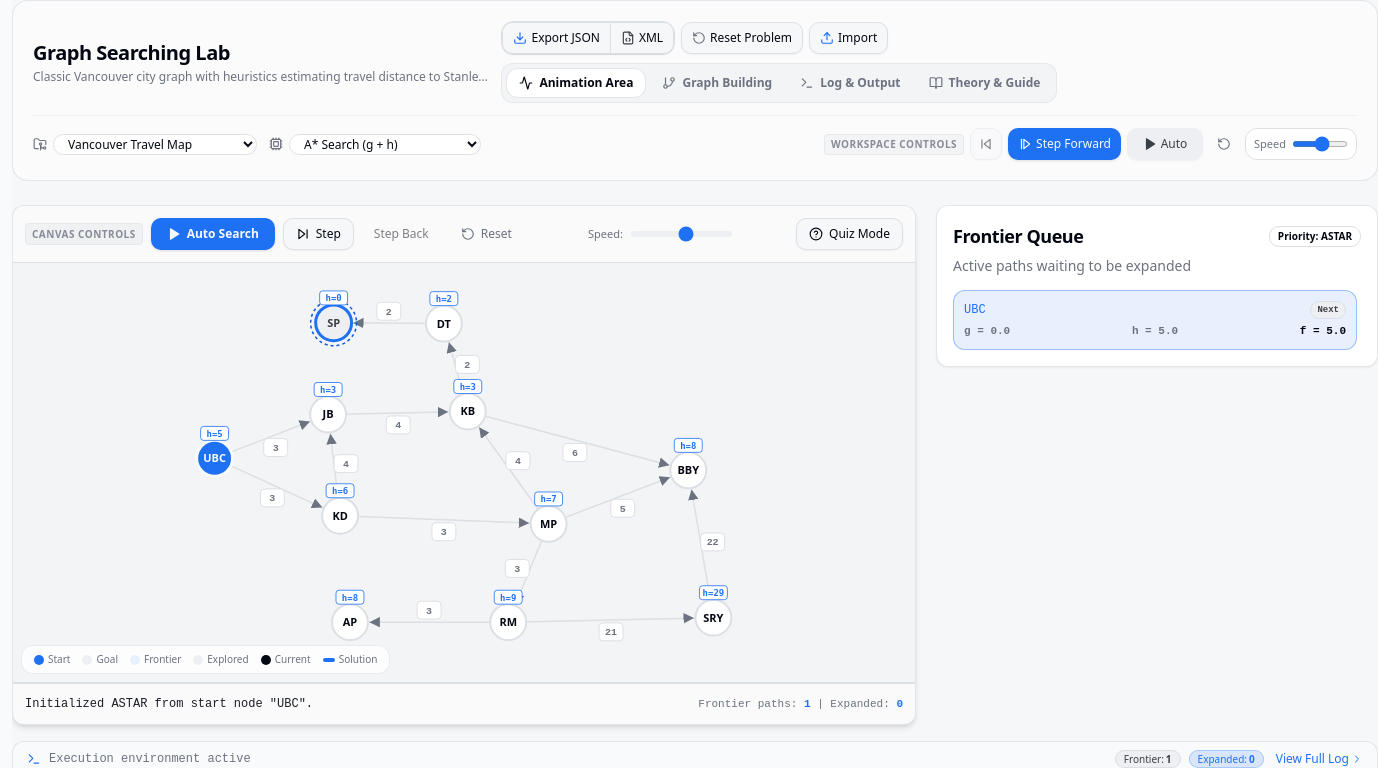
Scenario: AI Playground Comprehensive Verification Suite › 2. SearchTool mounts, displays nodes, and steps search algorithm
The width and height of the screenshot is (1378, 768).
Expected: the heading "Graph Searching Lab" is shown, [33,39,230,66]
Expected: the heading "Frontier Queue" is shown, [953,222,1083,250]
Click the button "Step". click: point(318, 234)
box: [283,218,354,250]
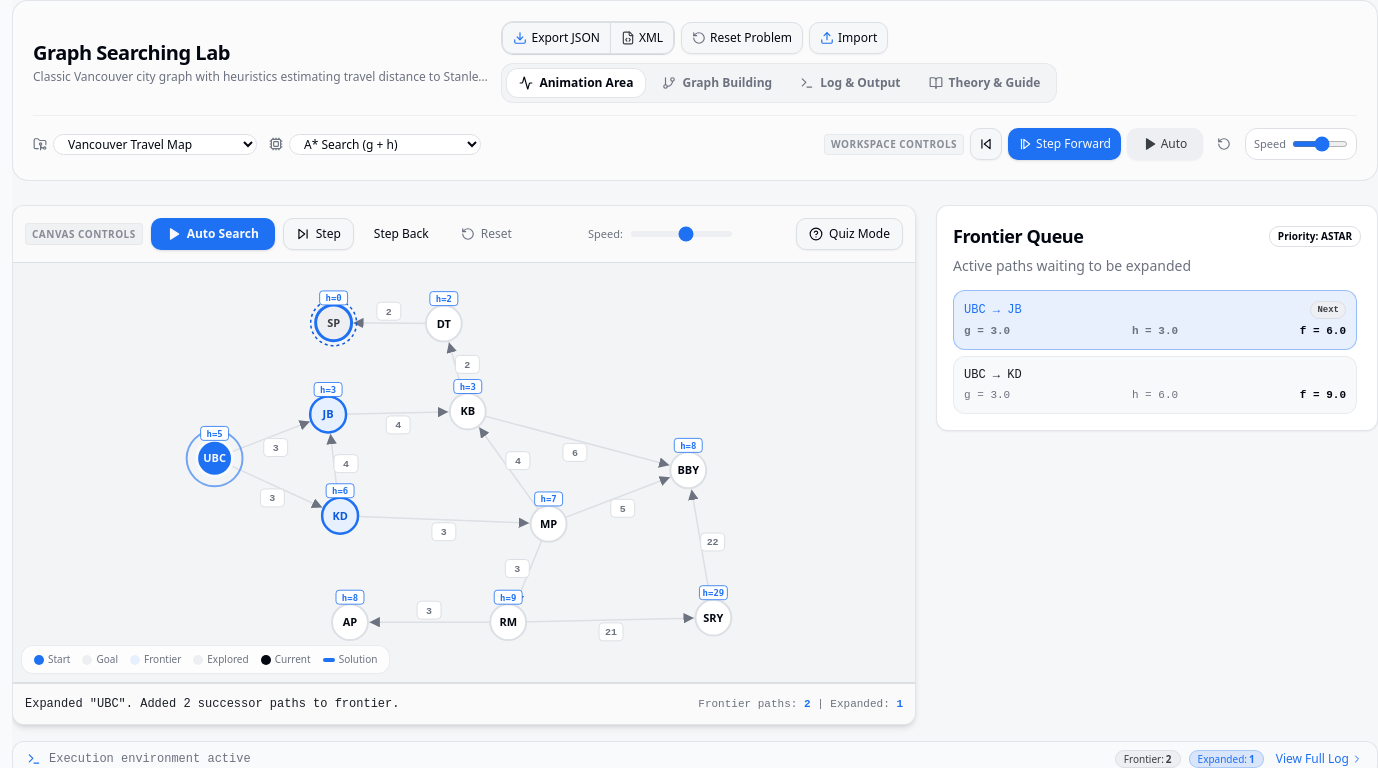
Result: the text "Expanded \"UBC\". Added 2 successor paths to frontier." is shown at [25,696,400,712]
